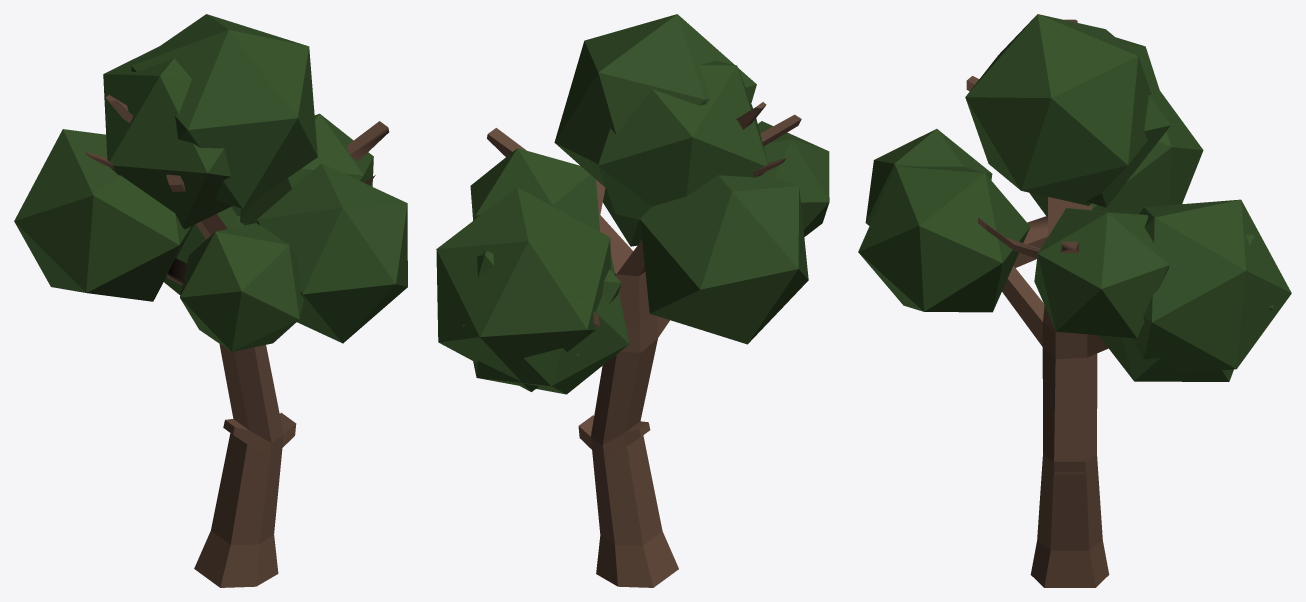
File: n_m_tree01.fbx
3 renders of one model, left to right at view 1: azimuth 30°, elevation 25°; view 2: azimuth 150°, elevation 25°; view 3: azimuth 270°, elevation 25°, orthographic.
Parts seen in each view (by area): view 1: Cube.005|Icosphere.001|Dupli|1, Cube.005|Icosphere.001|Dupli|8, Cube.005|Icosphere.001|Dupli|9, Cube.005, Cube.005|Icosphere.001|Dupli|, Cube.005|Icosphere.001|Dupli|6, Cube.005|Icosphere.001|Dupli|7, Cube.005|Icosphere.001|Dupli|2; view 2: Cube.005|Icosphere.001|Dupli|4, Cube.005|Icosphere.001|Dupli|8, Cube.005, Cube.005|Icosphere.001|Dupli|, Cube.005|Icosphere.001|Dupli|1, Cube.005|Icosphere.001|Dupli|7, Cube.005|Icosphere.001|Dupli|2, Cube.005|Icosphere.001|Dupli|6, Cube.005|Icosphere.001|Dupli|9; view 3: Cube.005|Icosphere.001|Dupli|1, Cube.005, Cube.005|Icosphere.001|Dupli|4, Cube.005|Icosphere.001|Dupli|9, Cube.005|Icosphere.001|Dupli|7, Cube.005|Icosphere.001|Dupli|8, Cube.005|Icosphere.001|Dupli|6, Cube.005|Icosphere.001|Dupli|, Cube.005|Icosphere.001|Dupli|2.
Part boxes in pixels (x1,y1,x2,y2): Cube.005|Icosphere.001|Dupli|1: (131,14,317,208); Cube.005|Icosphere.001|Dupli|8: (14,129,193,301); Cube.005|Icosphere.001|Dupli|9: (257,163,407,343); Cube.005: (85,95,389,587); Cube.005|Icosphere.001|Dupli|: (103,47,232,229); Cube.005|Icosphere.001|Dupli|6: (180,223,303,351); Cube.005|Icosphere.001|Dupli|7: (240,113,373,225); Cube.005|Icosphere.001|Dupli|2: (164,207,237,294); Cube.005|Icosphere.001|Dupli|4: (436,187,610,391); Cube.005|Icosphere.001|Dupli|8: (640,174,808,344); Cube.005: (487,102,801,587); Cube.005|Icosphere.001|Dupli|: (593,60,767,219); Cube.005|Icosphere.001|Dupli|1: (554,14,756,187); Cube.005|Icosphere.001|Dupli|7: (470,148,599,231); Cube.005|Icosphere.001|Dupli|2: (473,253,629,394); Cube.005|Icosphere.001|Dupli|6: (758,121,829,236); Cube.005|Icosphere.001|Dupli|9: (603,188,641,246); Cube.005|Icosphere.001|Dupli|1: (965,14,1151,205); Cube.005: (966,19,1109,587); Cube.005|Icosphere.001|Dupli|4: (1132,199,1291,373); Cube.005|Icosphere.001|Dupli|9: (858,166,1030,312); Cube.005|Icosphere.001|Dupli|7: (1034,208,1169,338); Cube.005|Icosphere.001|Dupli|8: (1029,91,1203,215); Cube.005|Icosphere.001|Dupli|6: (865,129,992,225); Cube.005|Icosphere.001|Dupli|: (1086,37,1170,207); Cube.005|Icosphere.001|Dupli|2: (1099,335,1233,381).
Size of the model in its own units: 563 by 870 by 622.
